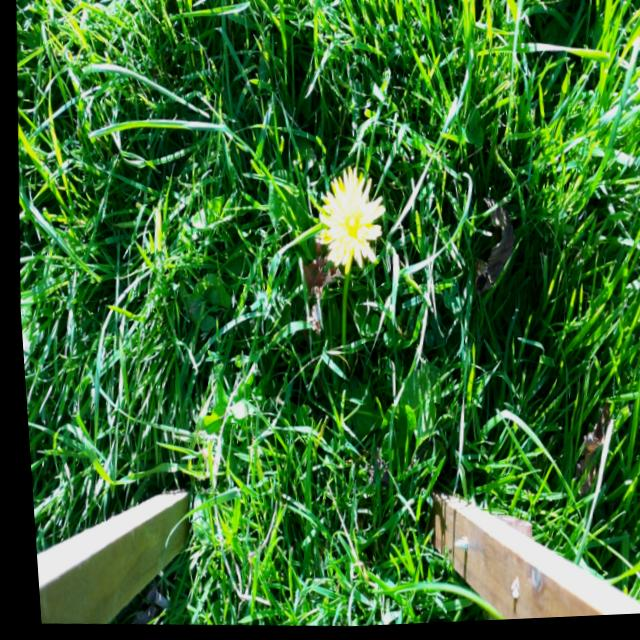base: (325, 359, 352, 397)
